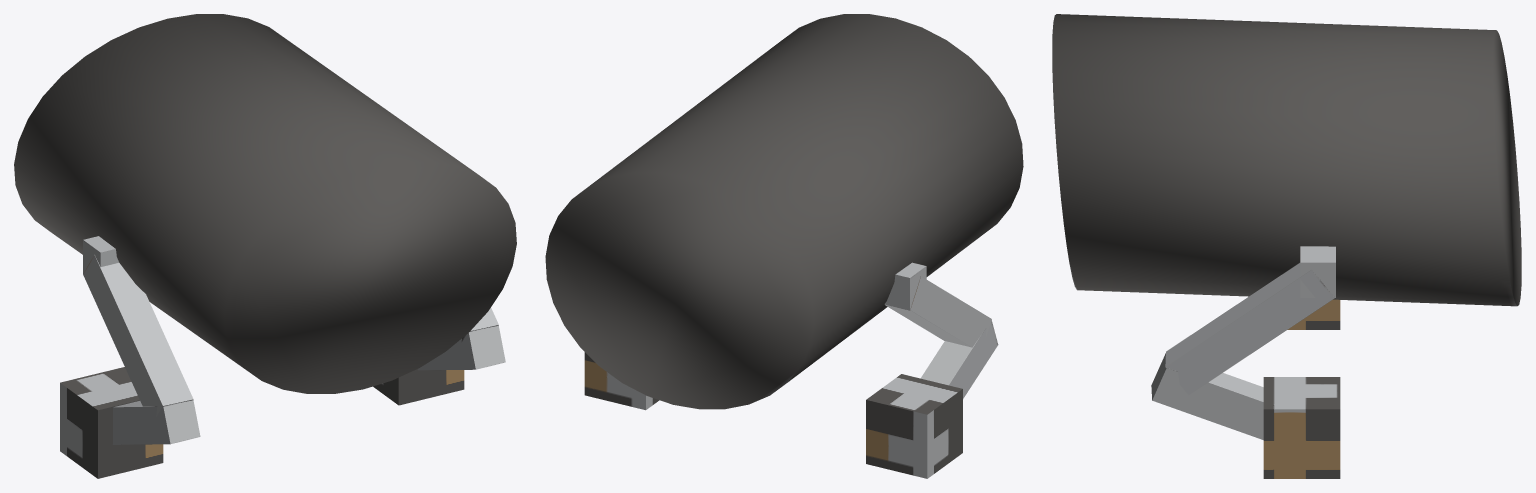
File: cannon.obj
3 views of the same model, side by side, from view 1: azimuth 30°, elevation 25°; view 2: azimuth 150°, elevation 25°; view 3: azimuth 270°, elevation 25° (orthographic). The views are drawn at different scales.
Parts seen in each view (by area): view 1: 立方体.006; view 2: 立方体.006; view 3: 立方体.006.
Part boxes in pixels (bbox=[...]): 立方体.006: bbox=[14, 14, 516, 478]; 立方体.006: bbox=[545, 14, 1023, 478]; 立方体.006: bbox=[1052, 14, 1521, 478].
Size of the model in its own units: 2.47 by 2.22 by 2.7.
